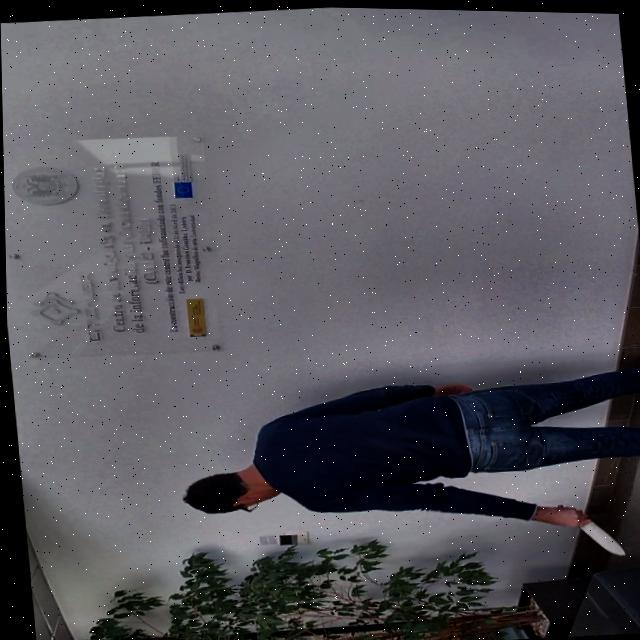knife: (570, 507, 638, 556)
